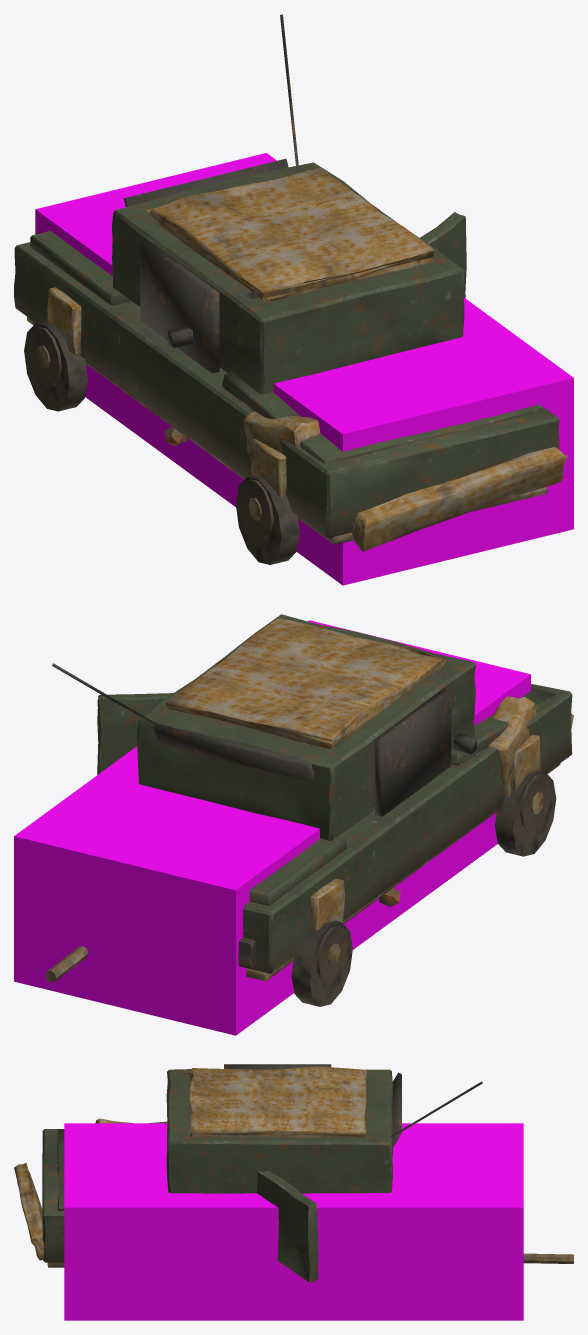
The model's file is prop_car_wreck_01_lod.glb.
3 renders of one model, top to bottom at view 1: azimuth 30°, elevation 25°; view 2: azimuth 150°, elevation 25°; view 3: azimuth 270°, elevation 25°, orthographic. The views are drawn at different scales.
Visible parts, largest first — view 1: Car.001, prop_car_wreck_01_lod-col; view 2: Car.001, prop_car_wreck_01_lod-col; view 3: prop_car_wreck_01_lod-col, Car.001.
Part boxes in pixels (bbox=[...]): Car.001: bbox=[14, 14, 567, 564]; prop_car_wreck_01_lod-col: bbox=[35, 153, 573, 585]; Car.001: bbox=[45, 614, 573, 1006]; prop_car_wreck_01_lod-col: bbox=[14, 620, 530, 1035]; prop_car_wreck_01_lod-col: bbox=[64, 1123, 523, 1320]; Car.001: bbox=[14, 1064, 573, 1282].
Bounding box in the file's own units: 2.62 × 2.28 × 4.94.
Materials: 2 (1 with a texture image).
